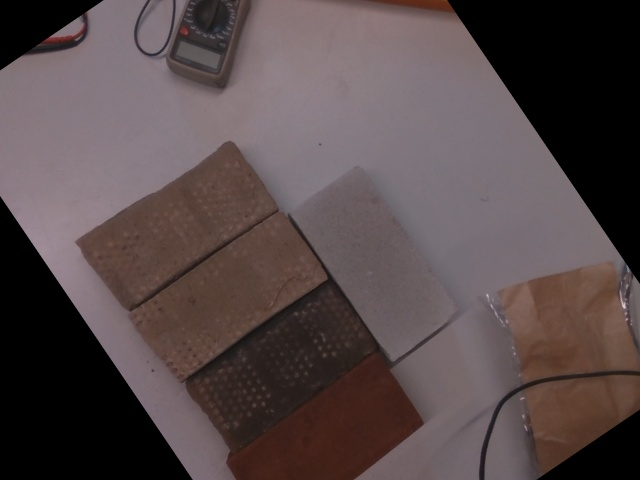brick: (135, 210, 326, 376), (295, 169, 461, 356), (85, 144, 275, 307), (190, 288, 374, 444), (229, 355, 426, 479)
